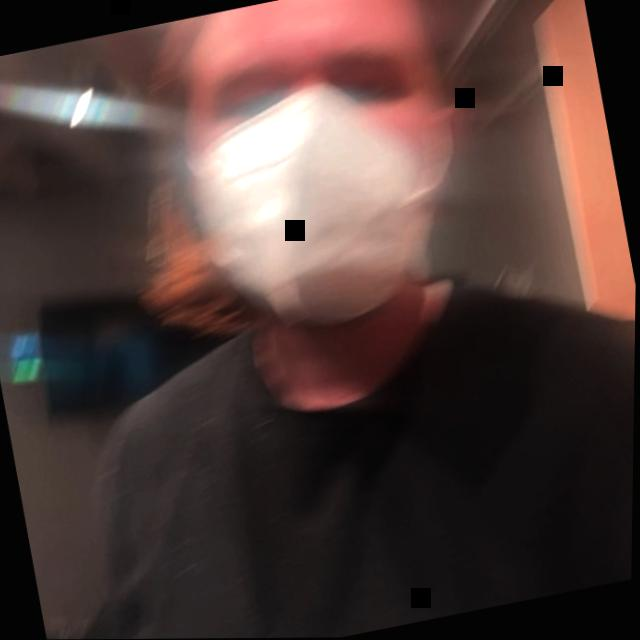Mask: (93, 0, 501, 383)
